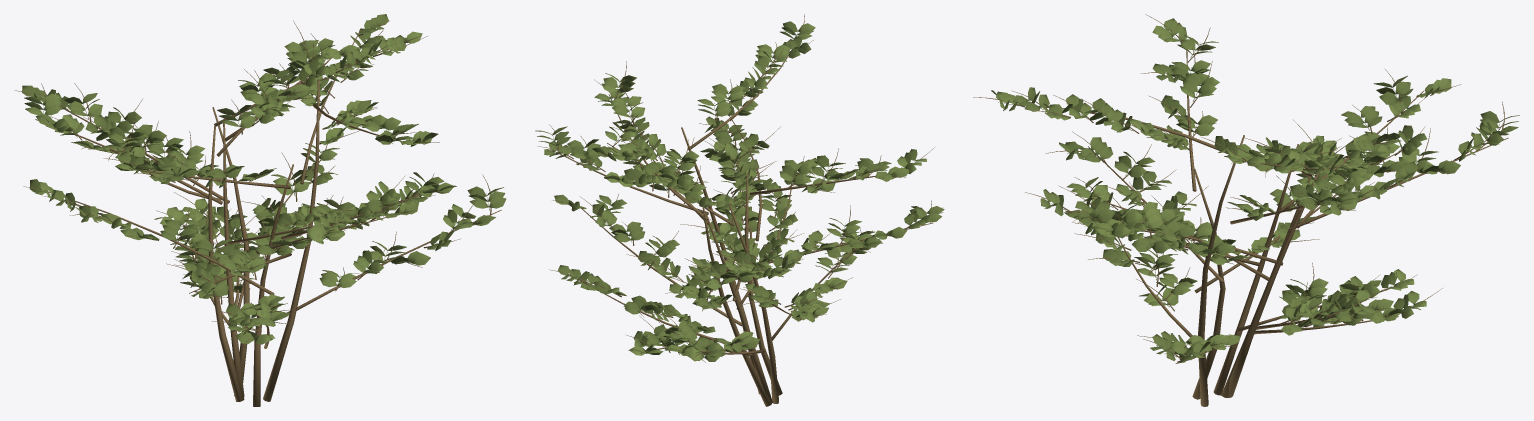
The model's file is Lentisque_2_LOD0.fbx.
The picture shows the model from 3 angles, left to right: view 1: azimuth 30°, elevation 25°; view 2: azimuth 150°, elevation 25°; view 3: azimuth 270°, elevation 25°; orthographic projection. The views are drawn at different scales.
Visible parts, largest first — view 1: Lentisque_2_LOD0; view 2: Lentisque_2_LOD0; view 3: Lentisque_2_LOD0.
Part boxes in pixels (bbox=[...]): Lentisque_2_LOD0: bbox=[14, 14, 506, 406]; Lentisque_2_LOD0: bbox=[535, 14, 944, 406]; Lentisque_2_LOD0: bbox=[973, 14, 1519, 406].
Bounding box in the file's own units: 264 × 207 × 296.
